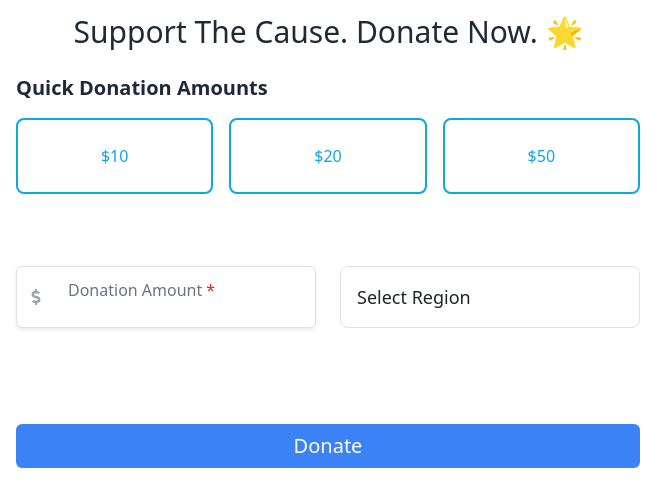
Testing Donation feature › selects quick donation amount
Click the text with test id "$10". click: (115, 156)
box: [16,118,213,194]
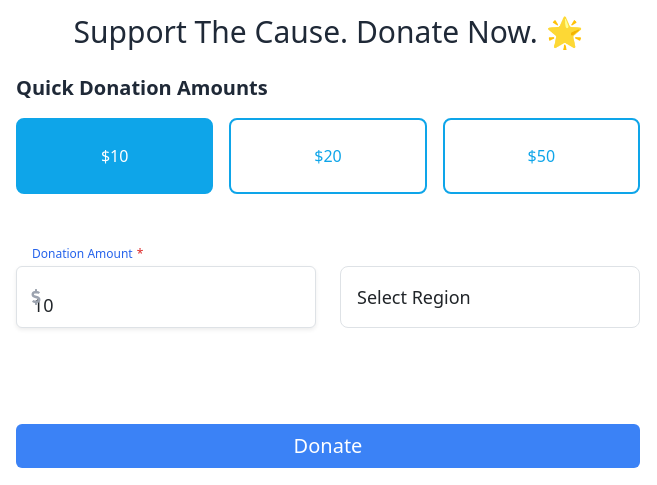
Expected: the field with test id "donation amount" holds "10", [16,266,316,328]
Click the text with test id "$20". click: (328, 156)
box: [229,118,427,194]
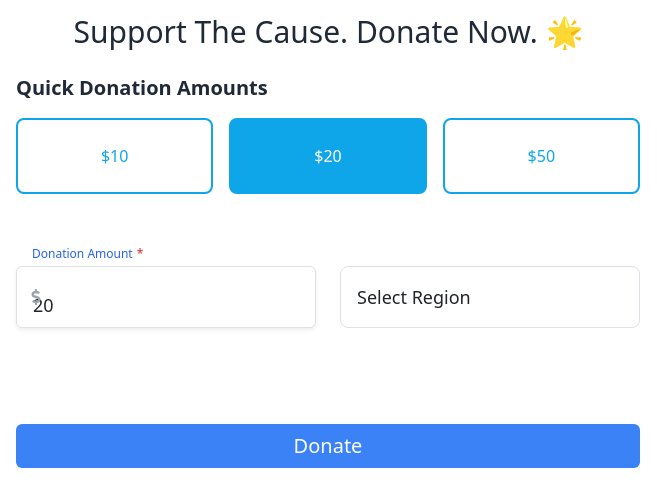
Expected: the field with test id "donation amount" holds "20", [16,266,316,328]
Click the text with test id "$50". click: (541, 156)
box: [443,118,640,194]
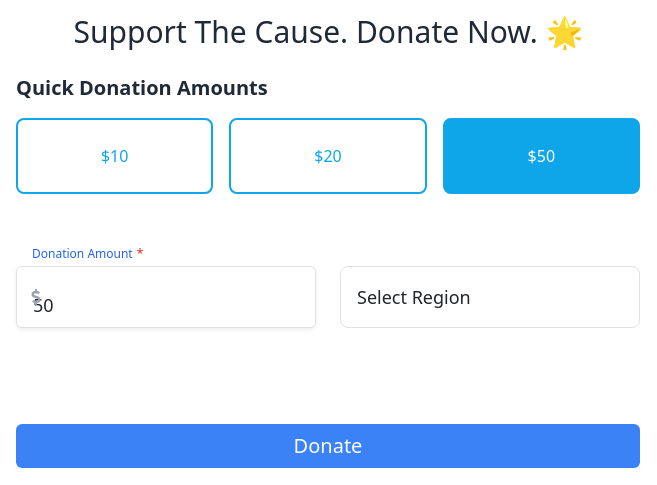
Expected: the field with test id "donation amount" holds "50", [16,266,316,328]
